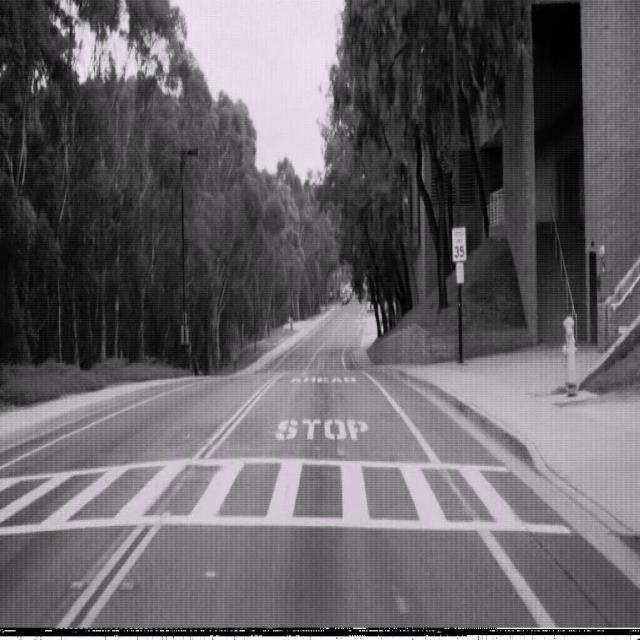speedLimit35: (452, 226, 466, 261)
